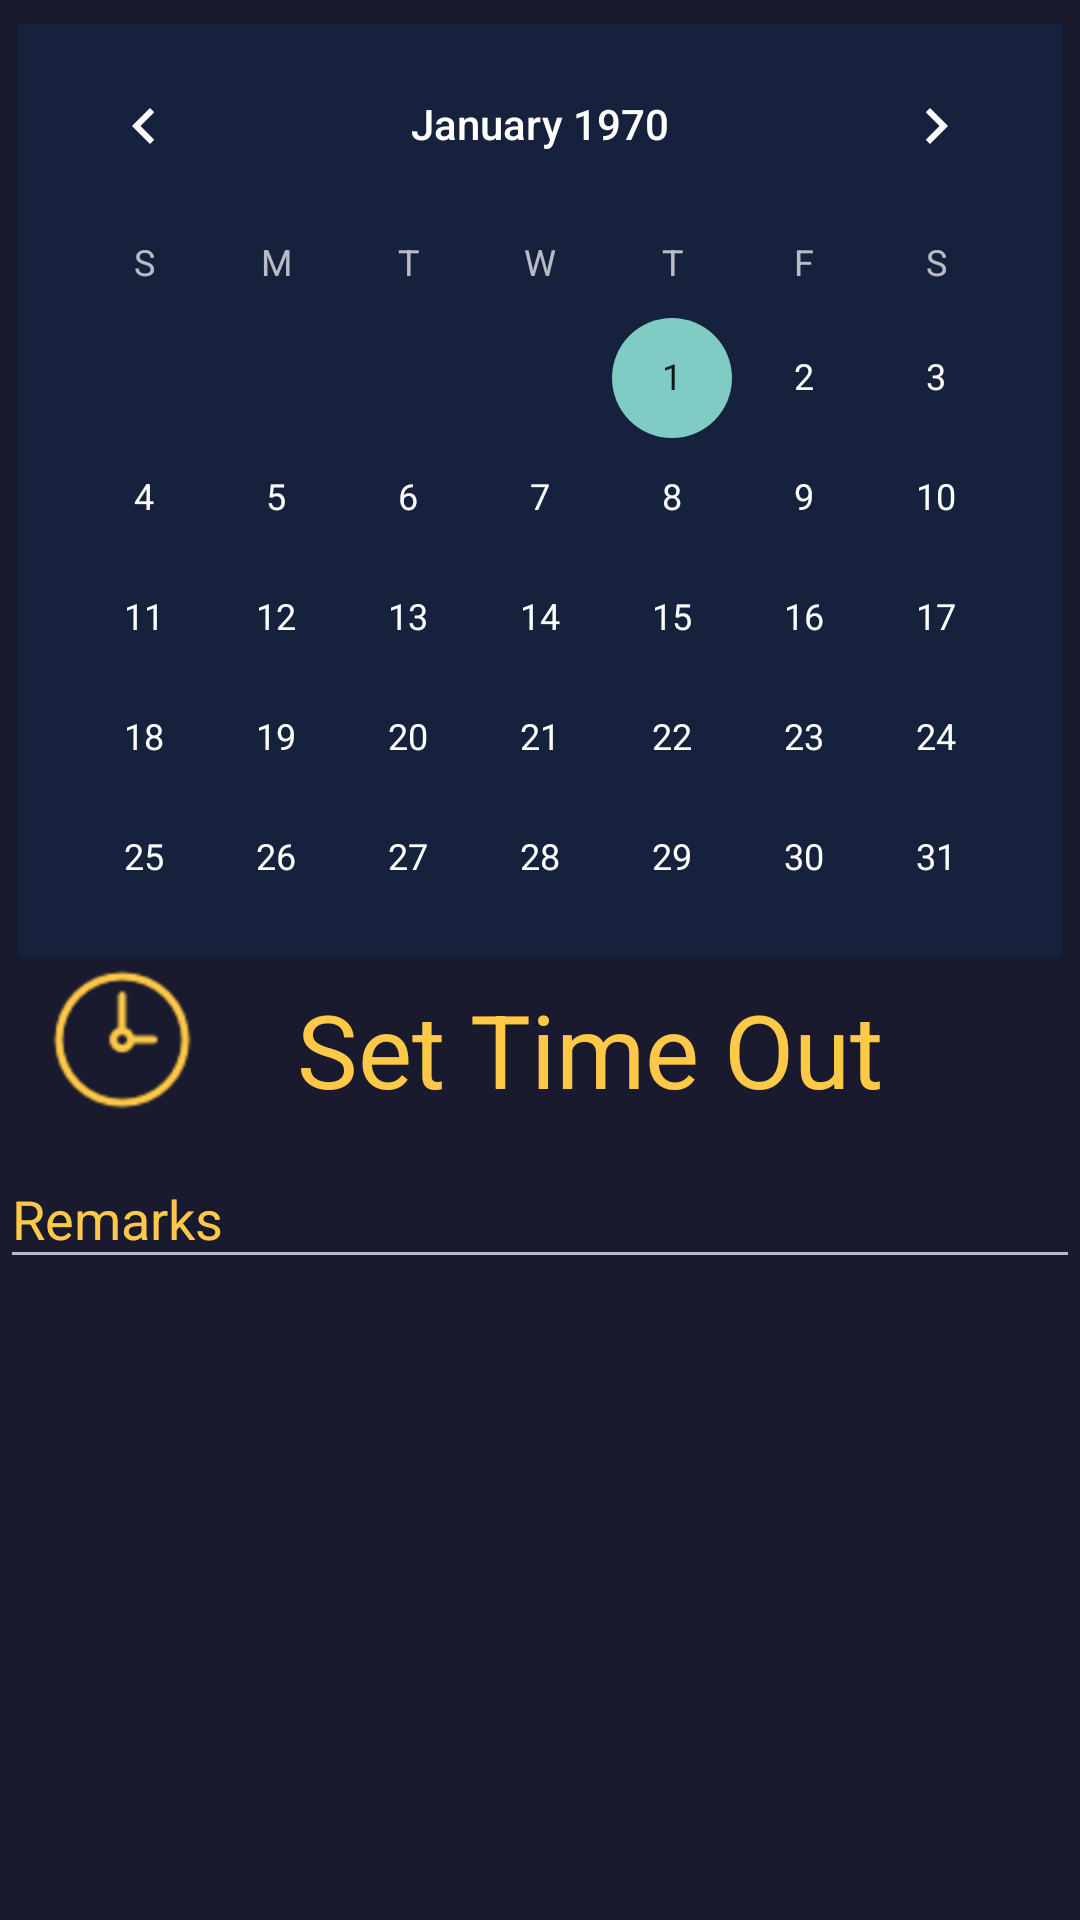

Point at icon controls on the screen. Image size 1080 × 1920, points as (x,y).
clock: (122,1040)
